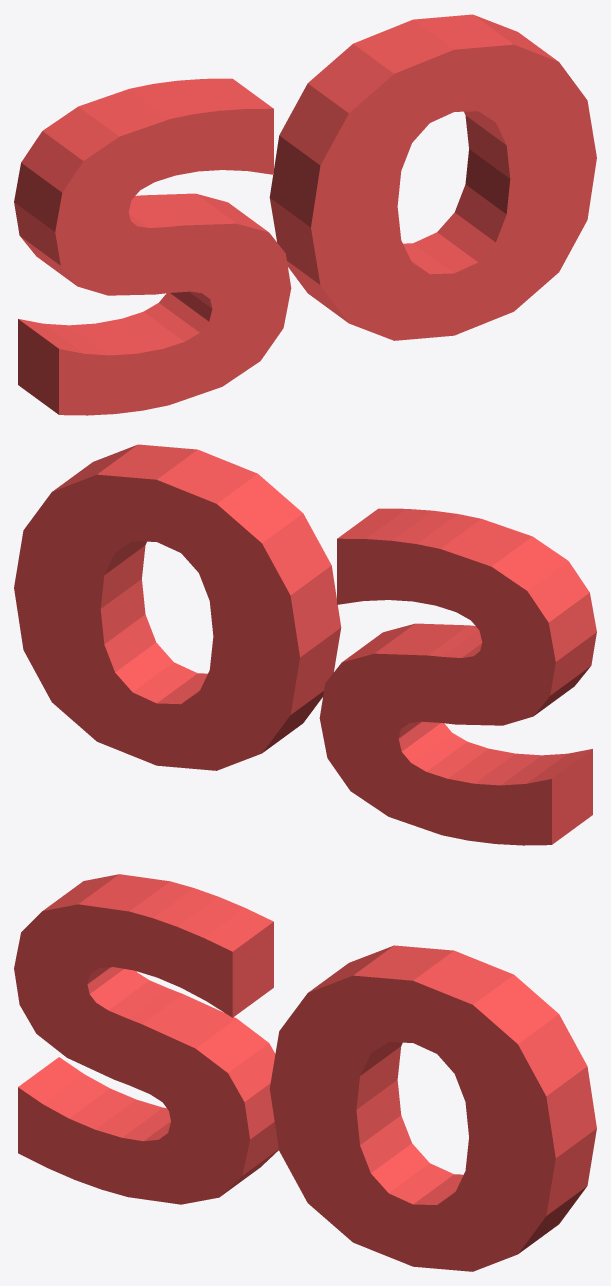
Rendered from suku_kecil_so.glb.
3 views of the same model, one above another, from view 1: azimuth 30°, elevation 25°; view 2: azimuth 150°, elevation 25°; view 3: azimuth 330°, elevation 25° (orthographic).
Visible parts, largest first — view 1: geometry_0; view 2: geometry_0; view 3: geometry_0.
Boxes of the visible parts, <box> form: geometry_0: <box>14,14,596,415</box>; geometry_0: <box>14,444,596,845</box>; geometry_0: <box>14,874,596,1271</box>.
Size of the model in its own units: 11.38 by 5.74 by 1.5.
